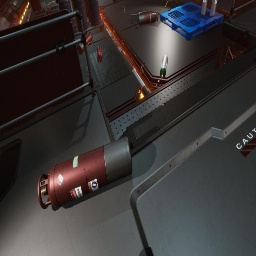0: (160, 55, 168, 80), (210, 0, 218, 16), (201, 0, 208, 15), (227, 40, 227, 40)
FireExtinguisher ]: (97, 46, 103, 62)
FirstAidBox ,: (46, 7, 52, 15), (99, 8, 101, 18)
NitrogenTank ,: (38, 136, 132, 209), (77, 32, 92, 54), (139, 13, 158, 25), (113, 0, 116, 3)
